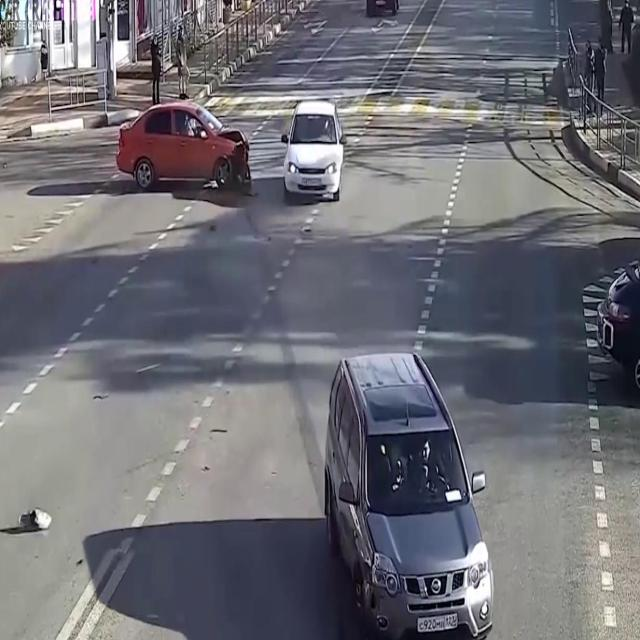accident: (286, 325, 532, 640), (103, 92, 268, 209)
